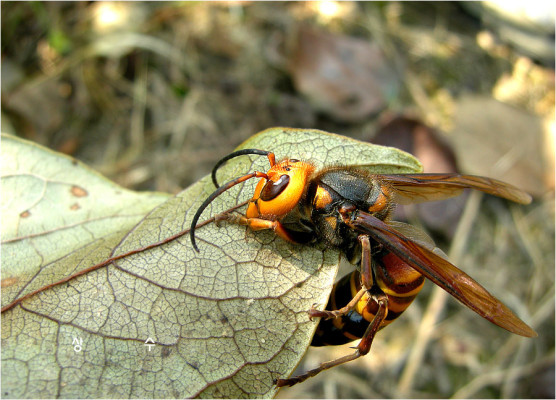asian_giant_hornet: (212, 150, 437, 348)
